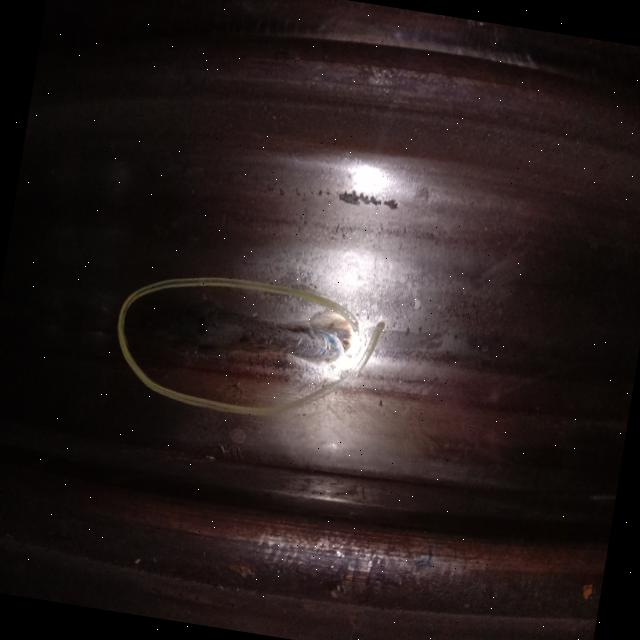flat: (167, 295, 346, 389)
